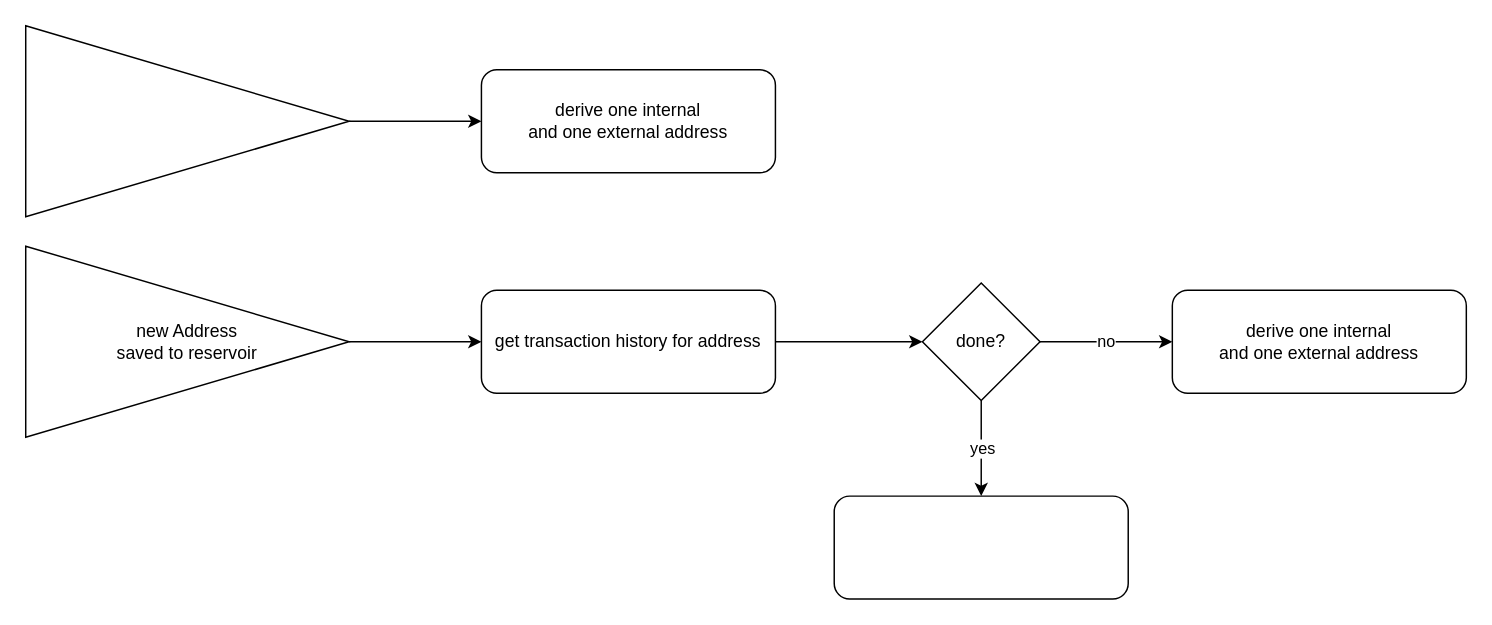
The diagram is 1492 pixels wide and 625 high, and some of its shapes have lost their labels. Each missing label, with the centre of its shape:
"new LeaderWallet saved to reservoir" belongs at pixel 186 120.
"recalculate all balances" belongs at pixel 980 547.
